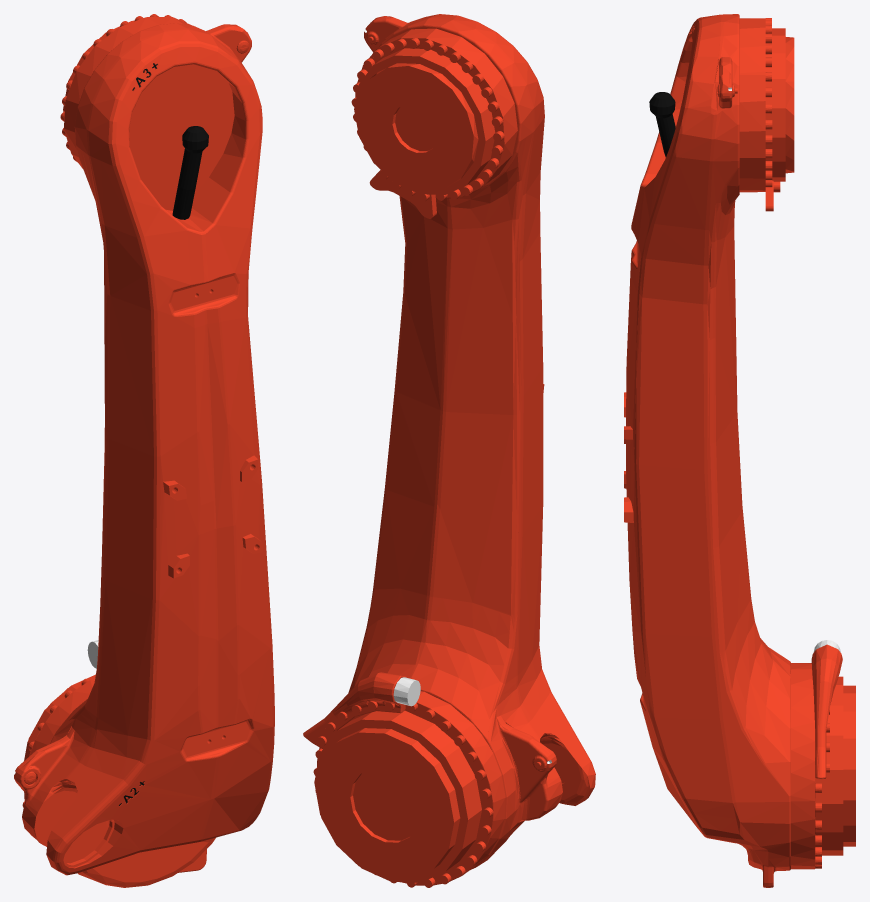
3 renders of one model, left to right at view 1: azimuth 30°, elevation 25°; view 2: azimuth 150°, elevation 25°; view 3: azimuth 270°, elevation 25°, orthographic. The views are drawn at different scales.
Visible parts, largest first — view 1: link_2; view 2: link_2; view 3: link_2.
Part boxes in pixels (x1,y1,x2,y2): link_2: [14, 14, 274, 887]; link_2: [303, 14, 595, 887]; link_2: [624, 14, 855, 887].
Size of the model in its own units: 0.4843 by 0.429 by 1.71.
